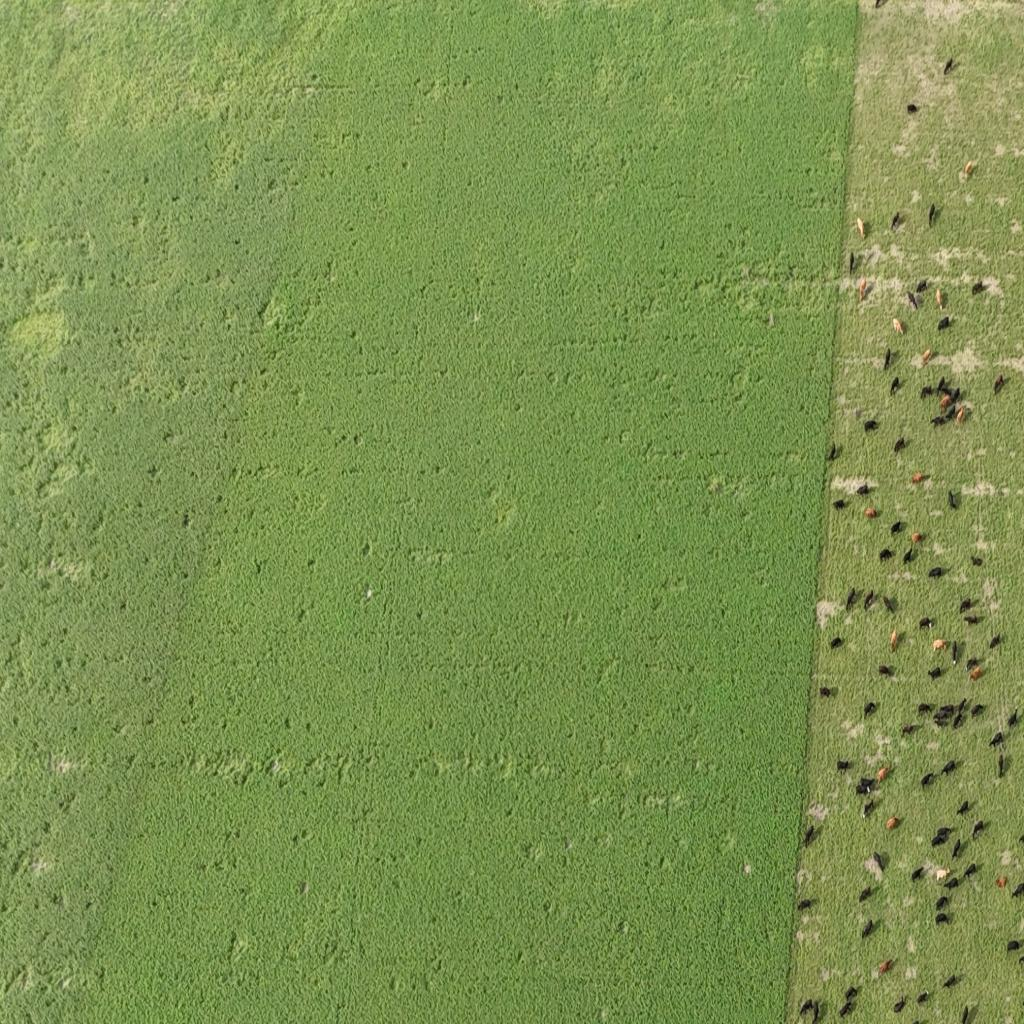cow: (839, 997, 854, 1019), (842, 985, 858, 1003), (935, 895, 950, 914), (799, 999, 813, 1019), (804, 824, 816, 847), (850, 247, 860, 274), (944, 874, 959, 892), (990, 730, 1004, 749), (883, 595, 897, 614), (861, 918, 874, 938), (1005, 938, 1021, 954), (874, 852, 886, 872), (972, 820, 984, 840), (859, 885, 873, 902), (797, 898, 814, 912), (942, 759, 956, 776), (846, 587, 856, 610), (994, 375, 1006, 394), (960, 1004, 972, 1023), (890, 627, 899, 652), (956, 799, 970, 815), (964, 658, 980, 672), (894, 996, 907, 1013), (862, 798, 872, 820), (944, 56, 956, 74), (892, 318, 904, 336), (963, 613, 981, 625), (907, 292, 919, 310), (936, 867, 950, 882), (837, 758, 852, 772), (930, 835, 945, 849), (920, 772, 934, 787), (935, 911, 950, 925), (943, 974, 957, 989), (916, 990, 930, 1005), (952, 838, 962, 859), (879, 959, 892, 975), (901, 723, 917, 736), (998, 751, 1006, 777), (855, 783, 871, 796), (930, 415, 946, 428), (856, 217, 865, 240), (811, 1001, 820, 1024), (966, 863, 978, 880), (864, 590, 874, 610), (948, 490, 958, 510), (933, 638, 947, 652), (919, 616, 933, 630), (970, 703, 984, 717), (928, 666, 942, 680), (940, 702, 954, 716), (937, 316, 950, 331), (879, 664, 894, 677), (920, 385, 933, 400), (878, 766, 890, 782), (989, 634, 1001, 650), (912, 866, 924, 882), (864, 701, 876, 717), (918, 702, 934, 714), (956, 698, 968, 714), (886, 816, 899, 830), (830, 636, 844, 649), (859, 276, 866, 302), (972, 280, 984, 295), (928, 567, 943, 579), (891, 376, 900, 396), (950, 387, 960, 405), (940, 394, 951, 410), (902, 548, 913, 564), (1009, 707, 1017, 729), (946, 404, 955, 423), (964, 160, 974, 177), (864, 420, 878, 432), (856, 484, 870, 496), (960, 598, 972, 612), (890, 522, 902, 536), (880, 548, 892, 562), (916, 279, 928, 293), (970, 666, 981, 681), (894, 438, 905, 453), (922, 348, 931, 366), (884, 347, 891, 370), (929, 205, 937, 225), (828, 442, 836, 462), (953, 714, 963, 730), (865, 507, 878, 519), (956, 406, 965, 423), (911, 532, 923, 544), (912, 472, 924, 484), (820, 686, 832, 698), (892, 212, 900, 230), (971, 554, 983, 566), (937, 378, 946, 394), (932, 711, 948, 720), (833, 500, 846, 511), (952, 640, 958, 663), (936, 288, 942, 310), (996, 876, 1007, 888), (938, 826, 951, 836), (1017, 881, 1024, 899), (906, 104, 918, 114), (861, 777, 874, 785), (933, 721, 944, 729), (875, 0, 882, 8)
